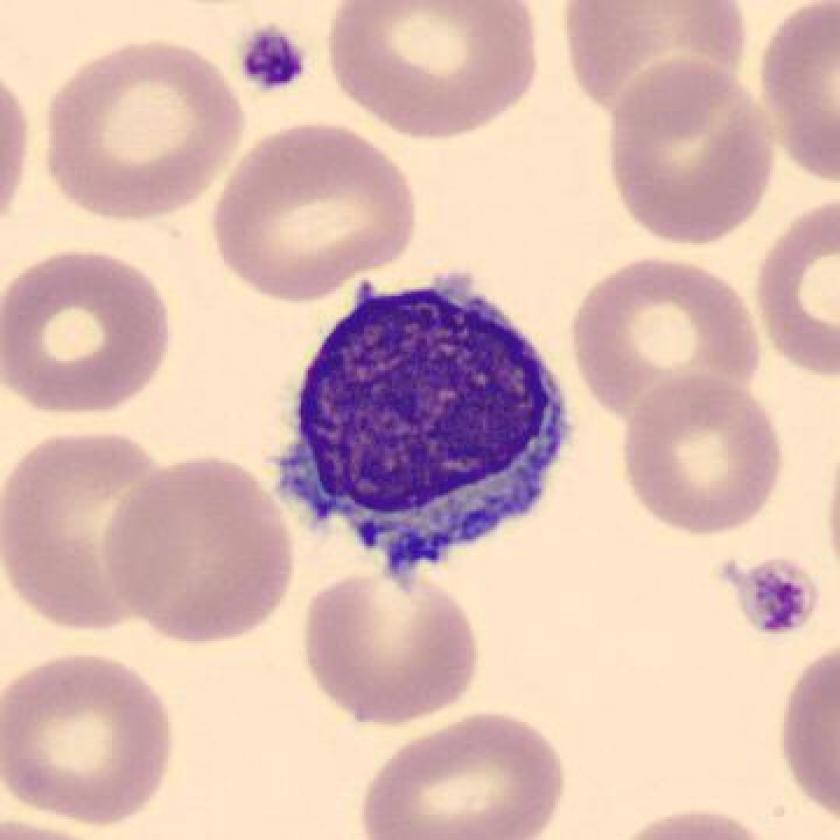lymphocyte: (262, 263, 589, 594)
